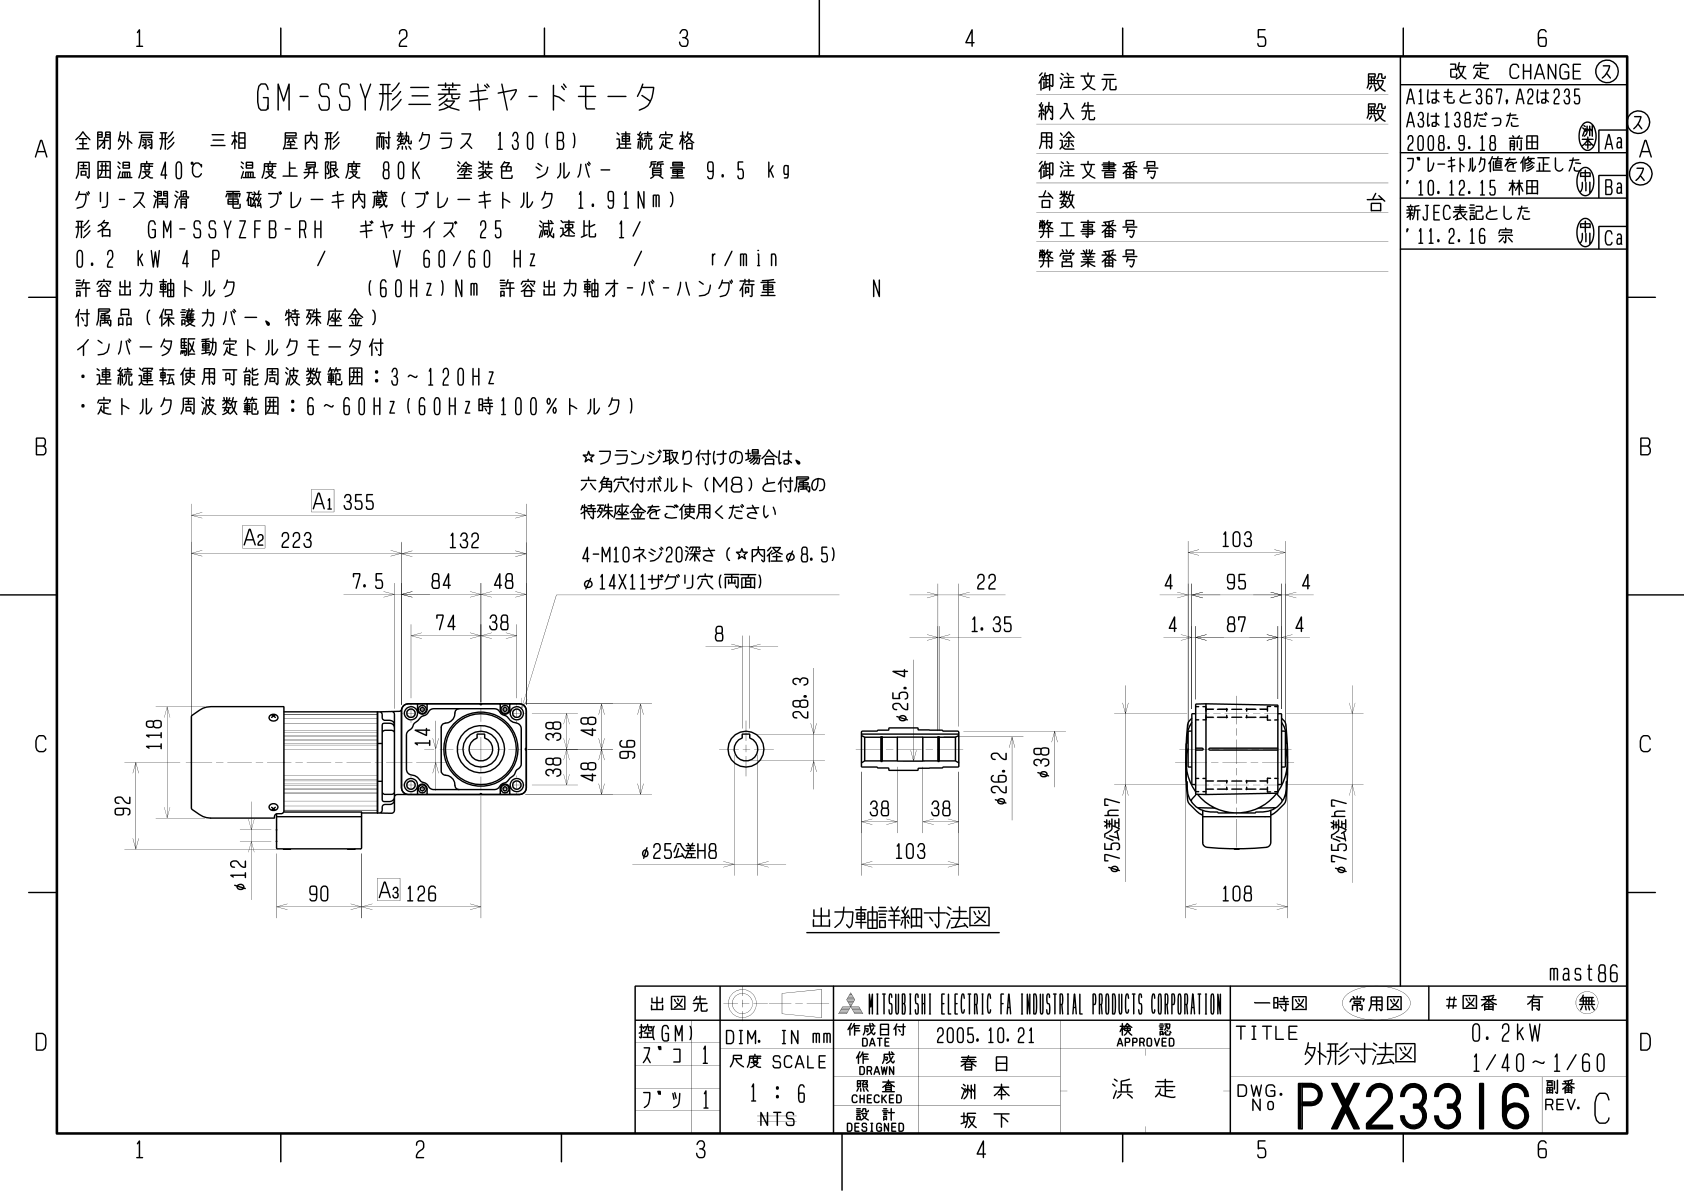GM_SSY_インバータ屋内_三相: (75, 420, 1389, 971)
